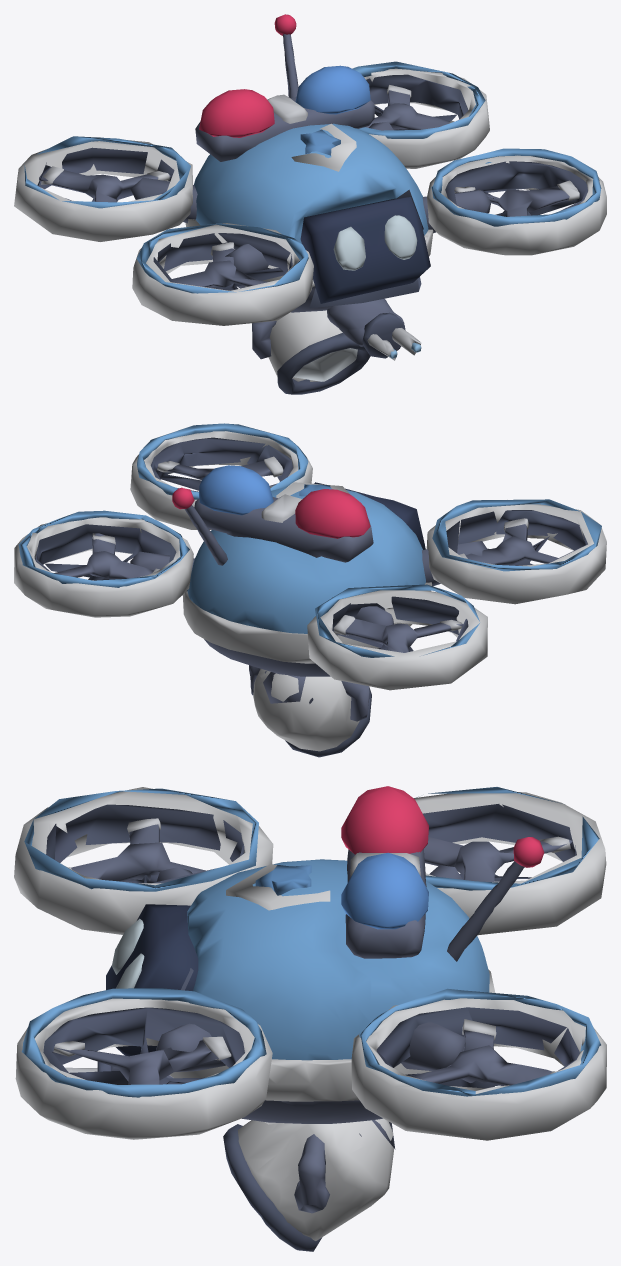
File: copter.glb
The picture shows the model from 3 angles, top to bottom: view 1: azimuth 30°, elevation 25°; view 2: azimuth 150°, elevation 25°; view 3: azimuth 270°, elevation 25°; orthographic projection. The views are drawn at different scales.
Parts seen in each view (by area): view 1: body, lamp, gun, siren_r_glow, siren_b_glow, face_glow, rotor_br, rotor_fl, rotor_fr, rotor_bl, lamp_glow; view 2: body, lamp, siren_r_glow, siren_b_glow, rotor_br, rotor_bl, rotor_fr, rotor_fl; view 3: body, lamp, siren_b_glow, siren_r_glow, rotor_bl, rotor_fl, rotor_fr, rotor_br, face_glow.
Part boxes in pixels (x1,y1,x2,y2): body: (14,14,606,325); lamp: (252,310,370,394); gun: (327,298,421,360); siren_r_glow: (199,89,274,137); siren_b_glow: (295,65,370,114); face_glow: (333,215,417,270); rotor_br: (39,166,171,202); rotor_fl: (454,180,579,216); rotor_fr: (172,242,268,287); rotor_bl: (365,85,454,129); lamp_glow: (293,348,357,381); body: (14,423,606,690); lamp: (249,665,371,757); siren_r_glow: (295,489,370,538); siren_b_glow: (198,465,273,515); rotor_br: (333,615,463,652); rotor_bl: (54,533,159,579); rotor_fr: (459,518,558,565); rotor_fl: (156,456,283,479); body: (14,787,606,1140); lamp: (223,1118,395,1251); siren_b_glow: (341,852,428,929); siren_r_glow: (341,786,428,854); rotor_bl: (411,1019,555,1085); rotor_fl: (53,1036,231,1084); rotor_fr: (68,818,205,881); rotor_br: (424,836,572,881); face_glow: (112,918,144,988).
Size of the model in its own units: 0.7524 by 0.4942 by 0.6018.
